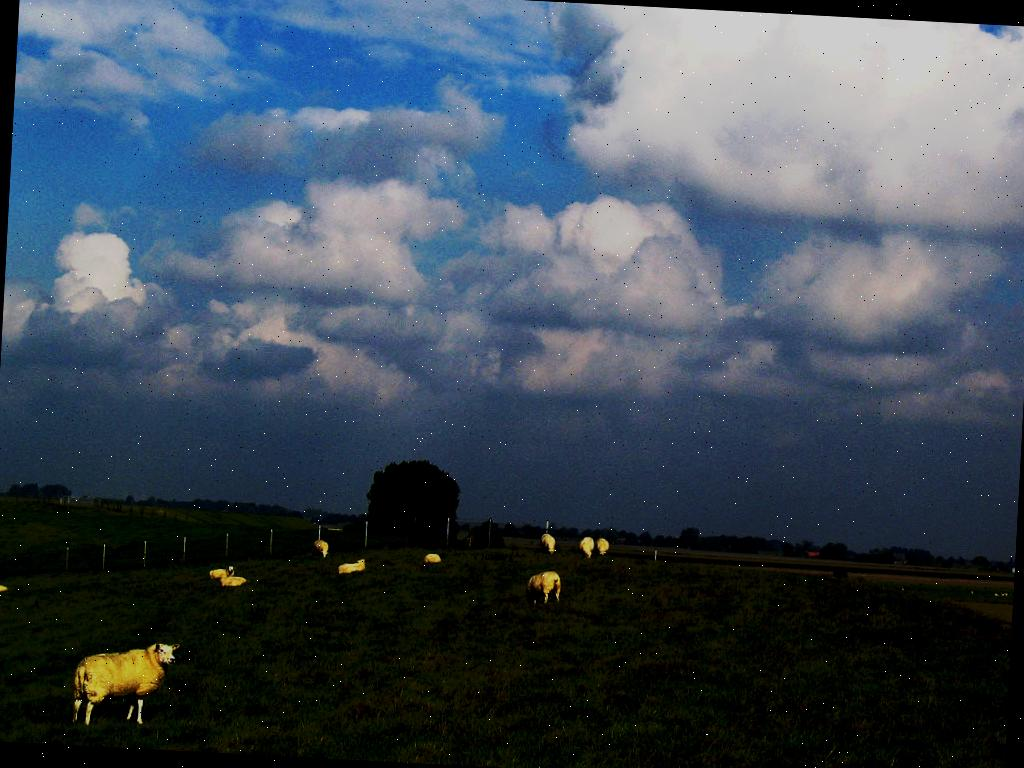Sheep: (73, 640, 180, 728), (522, 569, 566, 610), (336, 554, 370, 580), (537, 530, 561, 557), (204, 564, 238, 581), (578, 532, 596, 562), (594, 536, 612, 562), (310, 540, 332, 560), (419, 552, 444, 565)
